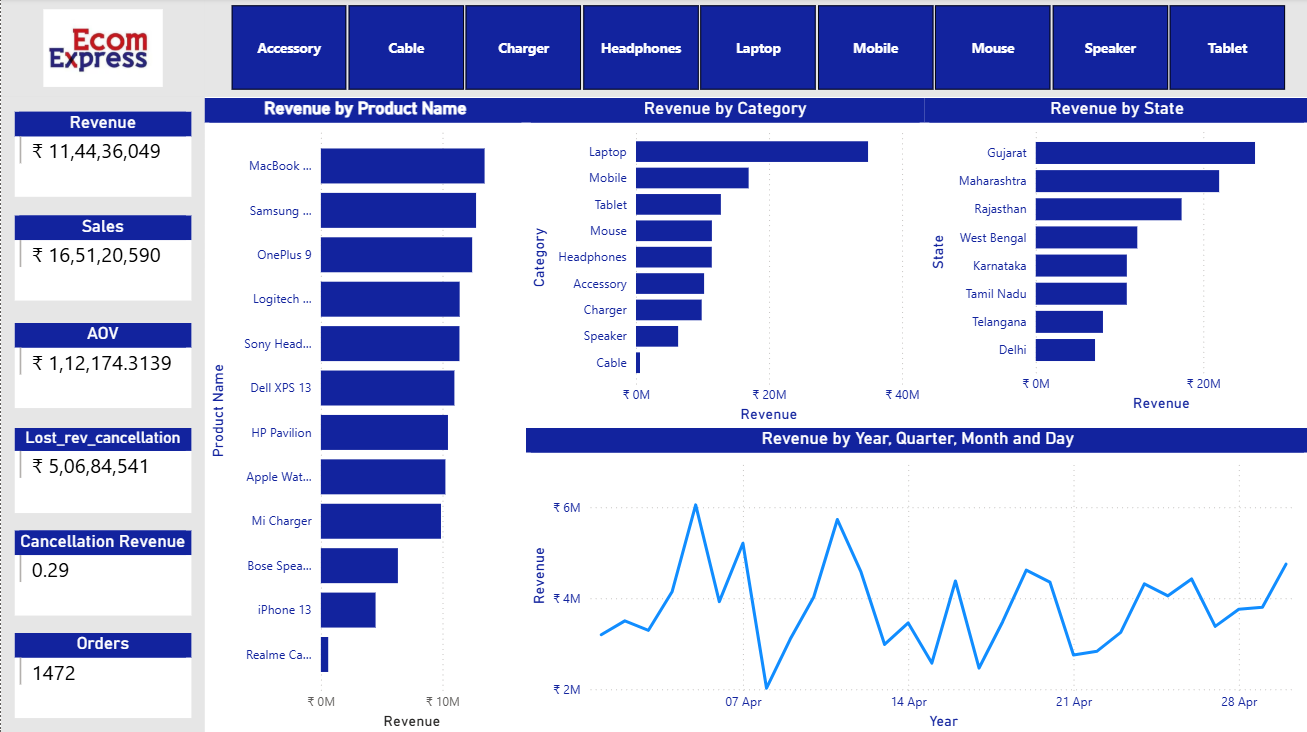

This screenshot's page, from the dashboard's own definition file:
{"tool":"powerbi","page":{"name":"Page 1","canvas":[1280,720],"ordinal":0},"visuals":[{"type":"shape","box":[0,0,1280.3,96.6],"z":0},{"type":"shape","box":[0,96.6,199.3,623.6],"z":1000},{"type":"image","box":[13.5,11,172.4,75.8],"z":2000},{"type":"barChart","fields":{"Y":["Table.Revenue"],"Category":["Product.Product Name"]},"box":[199.3,97.8,314.3,622.4],"z":3000},{"type":"barChart","fields":{"Y":["Table.Revenue"],"Category":["Product.Category"]},"box":[513.6,97.8,390.1,322.8],"z":4000},{"type":"lineChart","fields":{"Y":["Table.Revenue"],"Category":["orders.Date and time of purchase.Variation.Date Hierarchy.Year","orders.Date and time of purchase.Variation.Date Hierarchy.Quarter","orders.Date and time of purchase.Variation.Date Hierarchy.Month","orders.Date and time of purchase.Variation.Date Hierarchy.Day"]},"box":[513.6,420.7,766.7,299.6],"z":5000},{"type":"barChart","fields":{"Category":["customer.State"],"Y":["Table.Revenue"]},"box":[903.7,97.8,376.6,311.8],"z":6000},{"type":"slicer","fields":{"Values":["Product.Category"]},"box":[199.3,0,1081,96.6],"z":7000},{"type":"multiRowCard","title":"Revenue","fields":{"Values":["Table.Revenue"]},"box":[13.5,111.3,172.4,83.2],"z":8000},{"type":"multiRowCard","title":"Sales","fields":{"Values":["Table.Sales"]},"box":[13.5,212.8,172.4,83.2],"z":9000},{"type":"multiRowCard","title":"AOV","fields":{"Values":["Table.AOV"]},"box":[13.5,317.9,172.4,83.2],"z":10000},{"type":"multiRowCard","title":"Lost_rev_cancellation","fields":{"Values":["Table.lost_rev_cancellation"]},"box":[13.5,420.7,172.4,83.2],"z":11000},{"type":"multiRowCard","title":"Cancellation Revenue","fields":{"Values":["Table.cancellation rate"]},"box":[13.5,520.9,172.4,83.2],"z":12000},{"type":"multiRowCard","title":"Orders","fields":{"Values":["CountNonNull(orders.OrderID)"]},"box":[13.5,621.2,172.4,83.2],"z":13000}]}

Visuals, with their boxes in screenshot pixels (x1, y1, x2, y2), scaled from the page's 1280x720 canvas onto the 1307x732 screenshot:
shape: 0,0,1306,98
shape: 0,98,204,731
image: 14,11,190,88
barChart - Table.Revenue x Product.Product Name: 204,99,524,731
barChart - Table.Revenue x Product.Category: 524,99,923,428
lineChart - Table.Revenue x orders.Date and time of purchase.Variation.Date Hierarchy.Year: 524,428,1306,731
barChart - customer.State x Table.Revenue: 923,99,1306,416
slicer - Product.Category: 204,0,1306,98
"Revenue" multiRowCard: 14,113,190,198
"Sales" multiRowCard: 14,216,190,301
"AOV" multiRowCard: 14,323,190,408
"Lost_rev_cancellation" multiRowCard: 14,428,190,512
"Cancellation Revenue" multiRowCard: 14,530,190,614
"Orders" multiRowCard: 14,632,190,716
